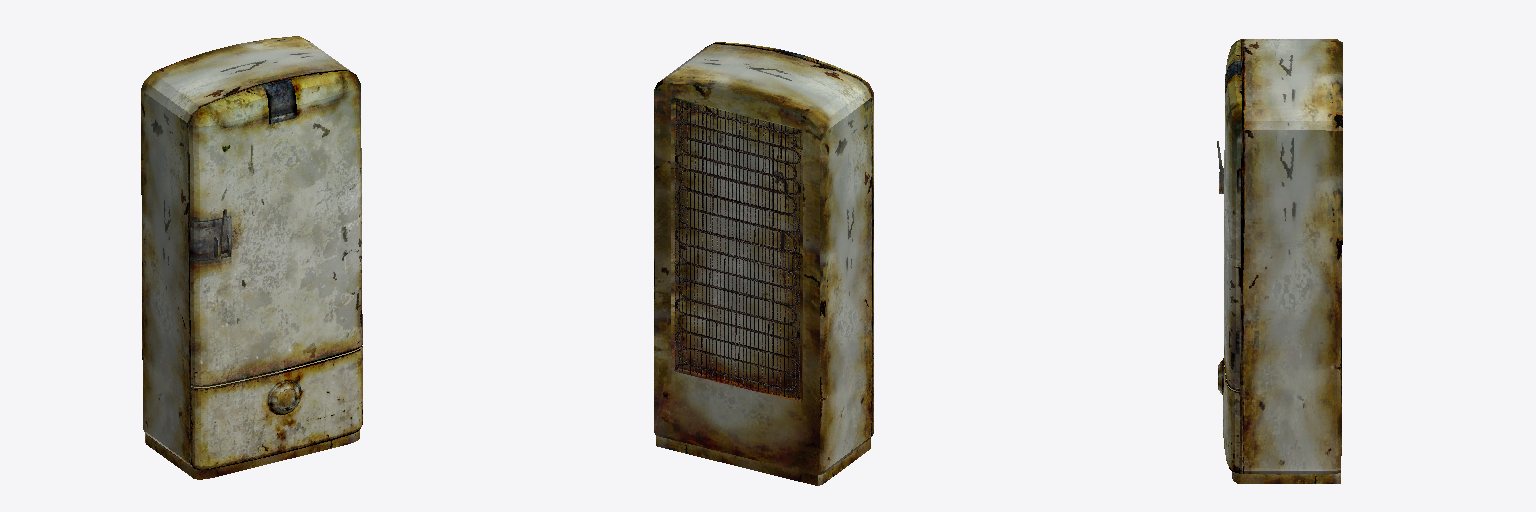
3 views of the same model, side by side, from view 1: azimuth 30°, elevation 25°; view 2: azimuth 150°, elevation 25°; view 3: azimuth 270°, elevation 25° (orthographic).
Visible parts, largest first — view 1: FridgeDoor:0, FridgeContainer:0; view 2: FridgeContainer:0, FridgeDoor:0; view 3: FridgeContainer:0, FridgeDoor:0.
Part boxes in pixels (bbox=[...]): FridgeDoor:0: bbox=[189, 71, 362, 386]; FridgeContainer:0: bbox=[141, 36, 362, 479]; FridgeContainer:0: bbox=[654, 43, 873, 485]; FridgeDoor:0: bbox=[715, 42, 873, 354]; FridgeContainer:0: bbox=[1218, 39, 1342, 483]; FridgeDoor:0: bbox=[1219, 39, 1241, 390].
Size of the model in its own units: 1.91 by 3.98 by 1.21.
3 materials, 1 textured.